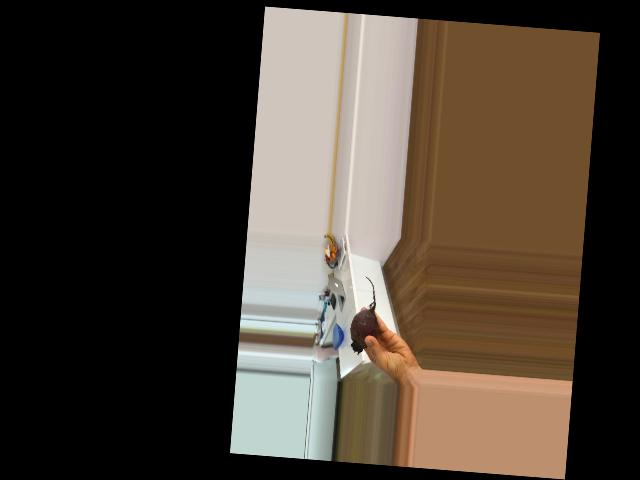beet: (348, 275, 382, 355)
